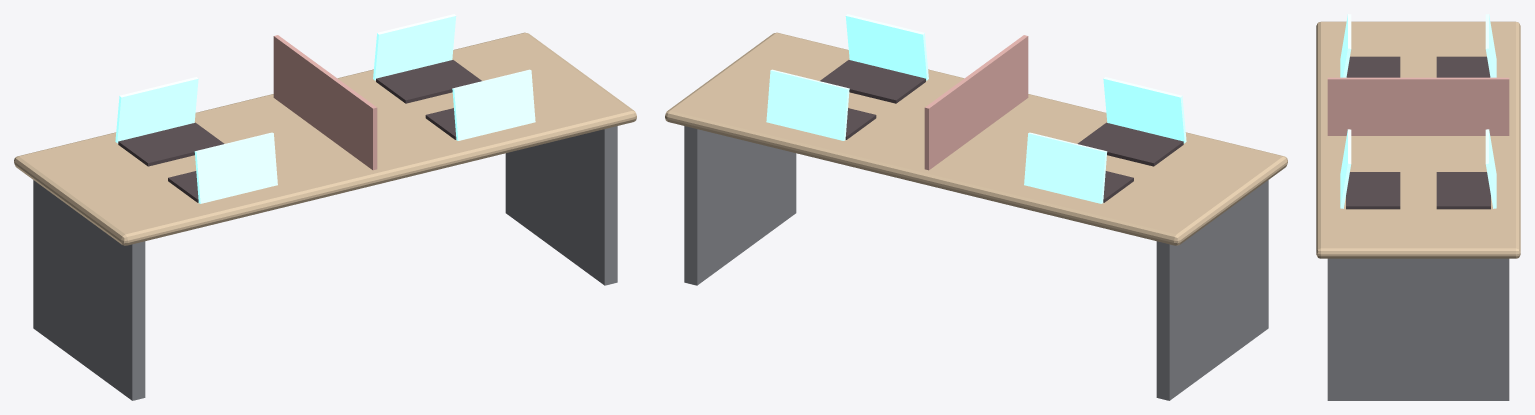
The model's file is mesa_cowork.glb.
3 renders of one model, left to right at view 1: azimuth 30°, elevation 25°; view 2: azimuth 150°, elevation 25°; view 3: azimuth 270°, elevation 25°, orthographic. The views are drawn at different scales.
Visible parts, largest first — view 1: mesa_cowork; view 2: mesa_cowork; view 3: mesa_cowork.
Part boxes in pixels (box(x1,y1,x2,y2)): mesa_cowork: box(14, 14, 636, 400); mesa_cowork: box(665, 14, 1287, 400); mesa_cowork: box(1316, 14, 1520, 400).
Bounding box in the file's own units: 2.4 × 1.04 × 0.9.
